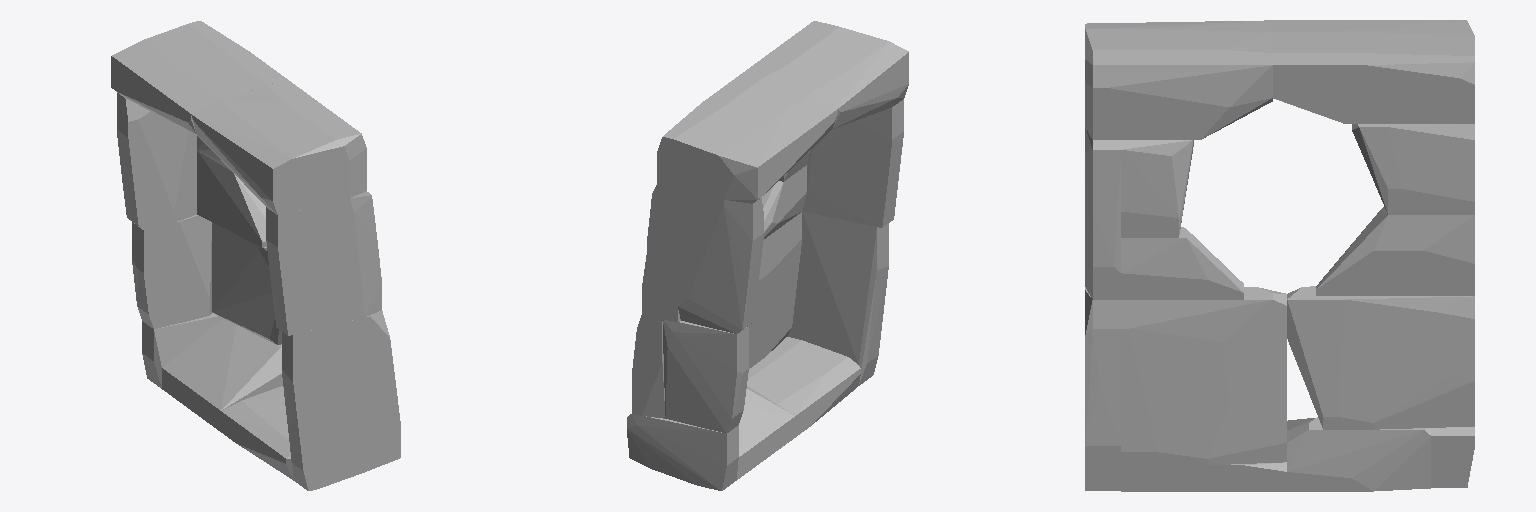
URDF robot description (root):
<robot name="root">
  <link name="link_thingiverse~box_with_two_big_holes_2543843_convex_piece_0">
    <inertial>
      <origin rpy="0 0 0" xyz="0 0 0"/>
      <mass value="1.45E-02"/>
      <inertia ixx="2.60E-05" ixy="-1.68E-07" ixz="-2.42E-07" iyy="1.01E-05" iyz="1.10E-05" izz="1.76E-05"/>
    </inertial>
    <visual>
      <origin rpy="0 0 0" xyz="0 0 0"/>
      <geometry>
        <mesh filename="thingiverse~box_with_two_big_holes_2543843_convex_piece_0.obj" scale="1.0000E+00 1.0000E+00 1.0000E+00"/>
      </geometry>
      <material name="">
        <color rgba="7.50E-01 7.50E-01 7.50E-01 1"/>
      </material>
    </visual>
    <collision>
      <origin rpy="0 0 0" xyz="0 0 0"/>
      <geometry>
        <mesh filename="thingiverse~box_with_two_big_holes_2543843_convex_piece_0.obj" scale="1.0000E+00 1.0000E+00 1.0000E+00"/>
      </geometry>
    </collision>
  </link>
  <link name="link_thingiverse~box_with_two_big_holes_2543843_convex_piece_1">
    <inertial>
      <origin rpy="0 0 0" xyz="0 0 0"/>
      <mass value="2.38E-02"/>
      <inertia ixx="4.71E-05" ixy="3.11E-06" ixz="-5.65E-06" iyy="3.68E-05" iyz="-1.85E-05" izz="1.48E-05"/>
    </inertial>
    <visual>
      <origin rpy="0 0 0" xyz="0 0 0"/>
      <geometry>
        <mesh filename="thingiverse~box_with_two_big_holes_2543843_convex_piece_1.obj" scale="1.0000E+00 1.0000E+00 1.0000E+00"/>
      </geometry>
      <material name="">
        <color rgba="7.50E-01 7.50E-01 7.50E-01 1"/>
      </material>
    </visual>
    <collision>
      <origin rpy="0 0 0" xyz="0 0 0"/>
      <geometry>
        <mesh filename="thingiverse~box_with_two_big_holes_2543843_convex_piece_1.obj" scale="1.0000E+00 1.0000E+00 1.0000E+00"/>
      </geometry>
    </collision>
  </link>
  <joint name="link_thingiverse~box_with_two_big_holes_2543843_convex_piece_1_joint" type="fixed">
    <origin rpy="0 0 0" xyz="0 0 0"/>
    <parent link="link_thingiverse~box_with_two_big_holes_2543843_convex_piece_0"/>
    <child link="link_thingiverse~box_with_two_big_holes_2543843_convex_piece_1"/>
  </joint>
  <link name="link_thingiverse~box_with_two_big_holes_2543843_convex_piece_2">
    <inertial>
      <origin rpy="0 0 0" xyz="0 0 0"/>
      <mass value="2.10E-02"/>
      <inertia ixx="4.22E-05" ixy="-2.86E-06" ixz="-5.73E-06" iyy="3.42E-05" iyz="1.55E-05" izz="1.23E-05"/>
    </inertial>
    <visual>
      <origin rpy="0 0 0" xyz="0 0 0"/>
      <geometry>
        <mesh filename="thingiverse~box_with_two_big_holes_2543843_convex_piece_2.obj" scale="1.0000E+00 1.0000E+00 1.0000E+00"/>
      </geometry>
      <material name="">
        <color rgba="7.50E-01 7.50E-01 7.50E-01 1"/>
      </material>
    </visual>
    <collision>
      <origin rpy="0 0 0" xyz="0 0 0"/>
      <geometry>
        <mesh filename="thingiverse~box_with_two_big_holes_2543843_convex_piece_2.obj" scale="1.0000E+00 1.0000E+00 1.0000E+00"/>
      </geometry>
    </collision>
  </link>
  <joint name="link_thingiverse~box_with_two_big_holes_2543843_convex_piece_2_joint" type="fixed">
    <origin rpy="0 0 0" xyz="0 0 0"/>
    <parent link="link_thingiverse~box_with_two_big_holes_2543843_convex_piece_1"/>
    <child link="link_thingiverse~box_with_two_big_holes_2543843_convex_piece_2"/>
  </joint>
  <link name="link_thingiverse~box_with_two_big_holes_2543843_convex_piece_3">
    <inertial>
      <origin rpy="0 0 0" xyz="0 0 0"/>
      <mass value="1.11E-02"/>
      <inertia ixx="2.02E-05" ixy="-2.60E-07" ixz="-6.29E-07" iyy="1.76E-05" iyz="6.26E-06" izz="3.86E-06"/>
    </inertial>
    <visual>
      <origin rpy="0 0 0" xyz="0 0 0"/>
      <geometry>
        <mesh filename="thingiverse~box_with_two_big_holes_2543843_convex_piece_3.obj" scale="1.0000E+00 1.0000E+00 1.0000E+00"/>
      </geometry>
      <material name="">
        <color rgba="7.50E-01 7.50E-01 7.50E-01 1"/>
      </material>
    </visual>
    <collision>
      <origin rpy="0 0 0" xyz="0 0 0"/>
      <geometry>
        <mesh filename="thingiverse~box_with_two_big_holes_2543843_convex_piece_3.obj" scale="1.0000E+00 1.0000E+00 1.0000E+00"/>
      </geometry>
    </collision>
  </link>
  <joint name="link_thingiverse~box_with_two_big_holes_2543843_convex_piece_3_joint" type="fixed">
    <origin rpy="0 0 0" xyz="0 0 0"/>
    <parent link="link_thingiverse~box_with_two_big_holes_2543843_convex_piece_2"/>
    <child link="link_thingiverse~box_with_two_big_holes_2543843_convex_piece_3"/>
  </joint>
  <link name="link_thingiverse~box_with_two_big_holes_2543843_convex_piece_4">
    <inertial>
      <origin rpy="0 0 0" xyz="0 0 0"/>
      <mass value="1.43E-02"/>
      <inertia ixx="1.06E-05" ixy="-2.05E-06" ixz="-2.70E-06" iyy="7.68E-06" iyz="3.96E-06" izz="5.68E-06"/>
    </inertial>
    <visual>
      <origin rpy="0 0 0" xyz="0 0 0"/>
      <geometry>
        <mesh filename="thingiverse~box_with_two_big_holes_2543843_convex_piece_4.obj" scale="1.0000E+00 1.0000E+00 1.0000E+00"/>
      </geometry>
      <material name="">
        <color rgba="7.50E-01 7.50E-01 7.50E-01 1"/>
      </material>
    </visual>
    <collision>
      <origin rpy="0 0 0" xyz="0 0 0"/>
      <geometry>
        <mesh filename="thingiverse~box_with_two_big_holes_2543843_convex_piece_4.obj" scale="1.0000E+00 1.0000E+00 1.0000E+00"/>
      </geometry>
    </collision>
  </link>
  <joint name="link_thingiverse~box_with_two_big_holes_2543843_convex_piece_4_joint" type="fixed">
    <origin rpy="0 0 0" xyz="0 0 0"/>
    <parent link="link_thingiverse~box_with_two_big_holes_2543843_convex_piece_3"/>
    <child link="link_thingiverse~box_with_two_big_holes_2543843_convex_piece_4"/>
  </joint>
  <link name="link_thingiverse~box_with_two_big_holes_2543843_convex_piece_5">
    <inertial>
      <origin rpy="0 0 0" xyz="0 0 0"/>
      <mass value="1.53E-02"/>
      <inertia ixx="2.56E-05" ixy="6.83E-07" ixz="-1.46E-06" iyy="2.19E-05" iyz="-8.70E-06" izz="5.49E-06"/>
    </inertial>
    <visual>
      <origin rpy="0 0 0" xyz="0 0 0"/>
      <geometry>
        <mesh filename="thingiverse~box_with_two_big_holes_2543843_convex_piece_5.obj" scale="1.0000E+00 1.0000E+00 1.0000E+00"/>
      </geometry>
      <material name="">
        <color rgba="7.50E-01 7.50E-01 7.50E-01 1"/>
      </material>
    </visual>
    <collision>
      <origin rpy="0 0 0" xyz="0 0 0"/>
      <geometry>
        <mesh filename="thingiverse~box_with_two_big_holes_2543843_convex_piece_5.obj" scale="1.0000E+00 1.0000E+00 1.0000E+00"/>
      </geometry>
    </collision>
  </link>
  <joint name="link_thingiverse~box_with_two_big_holes_2543843_convex_piece_5_joint" type="fixed">
    <origin rpy="0 0 0" xyz="0 0 0"/>
    <parent link="link_thingiverse~box_with_two_big_holes_2543843_convex_piece_4"/>
    <child link="link_thingiverse~box_with_two_big_holes_2543843_convex_piece_5"/>
  </joint>
  <link name="link_thingiverse~box_with_two_big_holes_2543843_convex_piece_6">
    <inertial>
      <origin rpy="0 0 0" xyz="0 0 0"/>
      <mass value="5.52E-03"/>
      <inertia ixx="1.30E-05" ixy="8.57E-08" ixz="-7.30E-08" iyy="7.30E-06" iyz="-6.43E-06" izz="6.32E-06"/>
    </inertial>
    <visual>
      <origin rpy="0 0 0" xyz="0 0 0"/>
      <geometry>
        <mesh filename="thingiverse~box_with_two_big_holes_2543843_convex_piece_6.obj" scale="1.0000E+00 1.0000E+00 1.0000E+00"/>
      </geometry>
      <material name="">
        <color rgba="7.50E-01 7.50E-01 7.50E-01 1"/>
      </material>
    </visual>
    <collision>
      <origin rpy="0 0 0" xyz="0 0 0"/>
      <geometry>
        <mesh filename="thingiverse~box_with_two_big_holes_2543843_convex_piece_6.obj" scale="1.0000E+00 1.0000E+00 1.0000E+00"/>
      </geometry>
    </collision>
  </link>
  <joint name="link_thingiverse~box_with_two_big_holes_2543843_convex_piece_6_joint" type="fixed">
    <origin rpy="0 0 0" xyz="0 0 0"/>
    <parent link="link_thingiverse~box_with_two_big_holes_2543843_convex_piece_5"/>
    <child link="link_thingiverse~box_with_two_big_holes_2543843_convex_piece_6"/>
  </joint>
  <link name="link_thingiverse~box_with_two_big_holes_2543843_convex_piece_7">
    <inertial>
      <origin rpy="0 0 0" xyz="0 0 0"/>
      <mass value="5.90E-03"/>
      <inertia ixx="8.28E-06" ixy="-1.10E-06" ixz="4.67E-07" iyy="1.94E-06" iyz="-2.89E-06" izz="7.04E-06"/>
    </inertial>
    <visual>
      <origin rpy="0 0 0" xyz="0 0 0"/>
      <geometry>
        <mesh filename="thingiverse~box_with_two_big_holes_2543843_convex_piece_7.obj" scale="1.0000E+00 1.0000E+00 1.0000E+00"/>
      </geometry>
      <material name="">
        <color rgba="7.50E-01 7.50E-01 7.50E-01 1"/>
      </material>
    </visual>
    <collision>
      <origin rpy="0 0 0" xyz="0 0 0"/>
      <geometry>
        <mesh filename="thingiverse~box_with_two_big_holes_2543843_convex_piece_7.obj" scale="1.0000E+00 1.0000E+00 1.0000E+00"/>
      </geometry>
    </collision>
  </link>
  <joint name="link_thingiverse~box_with_two_big_holes_2543843_convex_piece_7_joint" type="fixed">
    <origin rpy="0 0 0" xyz="0 0 0"/>
    <parent link="link_thingiverse~box_with_two_big_holes_2543843_convex_piece_6"/>
    <child link="link_thingiverse~box_with_two_big_holes_2543843_convex_piece_7"/>
  </joint>
  <link name="link_thingiverse~box_with_two_big_holes_2543843_convex_piece_8">
    <inertial>
      <origin rpy="0 0 0" xyz="0 0 0"/>
      <mass value="1.35E-02"/>
      <inertia ixx="1.10E-05" ixy="2.26E-06" ixz="-1.70E-06" iyy="4.74E-06" iyz="-4.37E-06" izz="8.15E-06"/>
    </inertial>
    <visual>
      <origin rpy="0 0 0" xyz="0 0 0"/>
      <geometry>
        <mesh filename="thingiverse~box_with_two_big_holes_2543843_convex_piece_8.obj" scale="1.0000E+00 1.0000E+00 1.0000E+00"/>
      </geometry>
      <material name="">
        <color rgba="7.50E-01 7.50E-01 7.50E-01 1"/>
      </material>
    </visual>
    <collision>
      <origin rpy="0 0 0" xyz="0 0 0"/>
      <geometry>
        <mesh filename="thingiverse~box_with_two_big_holes_2543843_convex_piece_8.obj" scale="1.0000E+00 1.0000E+00 1.0000E+00"/>
      </geometry>
    </collision>
  </link>
  <joint name="link_thingiverse~box_with_two_big_holes_2543843_convex_piece_8_joint" type="fixed">
    <origin rpy="0 0 0" xyz="0 0 0"/>
    <parent link="link_thingiverse~box_with_two_big_holes_2543843_convex_piece_7"/>
    <child link="link_thingiverse~box_with_two_big_holes_2543843_convex_piece_8"/>
  </joint>
  <link name="link_thingiverse~box_with_two_big_holes_2543843_convex_piece_9">
    <inertial>
      <origin rpy="0 0 0" xyz="0 0 0"/>
      <mass value="1.08E-02"/>
      <inertia ixx="1.55E-05" ixy="1.36E-06" ixz="-6.40E-07" iyy="3.77E-06" iyz="-5.11E-06" izz="1.33E-05"/>
    </inertial>
    <visual>
      <origin rpy="0 0 0" xyz="0 0 0"/>
      <geometry>
        <mesh filename="thingiverse~box_with_two_big_holes_2543843_convex_piece_9.obj" scale="1.0000E+00 1.0000E+00 1.0000E+00"/>
      </geometry>
      <material name="">
        <color rgba="7.50E-01 7.50E-01 7.50E-01 1"/>
      </material>
    </visual>
    <collision>
      <origin rpy="0 0 0" xyz="0 0 0"/>
      <geometry>
        <mesh filename="thingiverse~box_with_two_big_holes_2543843_convex_piece_9.obj" scale="1.0000E+00 1.0000E+00 1.0000E+00"/>
      </geometry>
    </collision>
  </link>
  <joint name="link_thingiverse~box_with_two_big_holes_2543843_convex_piece_9_joint" type="fixed">
    <origin rpy="0 0 0" xyz="0 0 0"/>
    <parent link="link_thingiverse~box_with_two_big_holes_2543843_convex_piece_8"/>
    <child link="link_thingiverse~box_with_two_big_holes_2543843_convex_piece_9"/>
  </joint>
  <link name="link_thingiverse~box_with_two_big_holes_2543843_convex_piece_10">
    <inertial>
      <origin rpy="0 0 0" xyz="0 0 0"/>
      <mass value="7.70E-03"/>
      <inertia ixx="1.16E-05" ixy="-2.49E-06" ixz="-1.20E-06" iyy="3.60E-06" iyz="4.18E-06" izz="9.83E-06"/>
    </inertial>
    <visual>
      <origin rpy="0 0 0" xyz="0 0 0"/>
      <geometry>
        <mesh filename="thingiverse~box_with_two_big_holes_2543843_convex_piece_10.obj" scale="1.0000E+00 1.0000E+00 1.0000E+00"/>
      </geometry>
      <material name="">
        <color rgba="7.50E-01 7.50E-01 7.50E-01 1"/>
      </material>
    </visual>
    <collision>
      <origin rpy="0 0 0" xyz="0 0 0"/>
      <geometry>
        <mesh filename="thingiverse~box_with_two_big_holes_2543843_convex_piece_10.obj" scale="1.0000E+00 1.0000E+00 1.0000E+00"/>
      </geometry>
    </collision>
  </link>
  <joint name="link_thingiverse~box_with_two_big_holes_2543843_convex_piece_10_joint" type="fixed">
    <origin rpy="0 0 0" xyz="0 0 0"/>
    <parent link="link_thingiverse~box_with_two_big_holes_2543843_convex_piece_9"/>
    <child link="link_thingiverse~box_with_two_big_holes_2543843_convex_piece_10"/>
  </joint>
  <link name="link_thingiverse~box_with_two_big_holes_2543843_convex_piece_11">
    <inertial>
      <origin rpy="0 0 0" xyz="0 0 0"/>
      <mass value="2.88E-03"/>
      <inertia ixx="1.43E-06" ixy="-4.33E-07" ixz="7.17E-08" iyy="2.32E-07" iyz="-2.33E-07" izz="1.52E-06"/>
    </inertial>
    <visual>
      <origin rpy="0 0 0" xyz="0 0 0"/>
      <geometry>
        <mesh filename="thingiverse~box_with_two_big_holes_2543843_convex_piece_11.obj" scale="1.0000E+00 1.0000E+00 1.0000E+00"/>
      </geometry>
      <material name="">
        <color rgba="7.50E-01 7.50E-01 7.50E-01 1"/>
      </material>
    </visual>
    <collision>
      <origin rpy="0 0 0" xyz="0 0 0"/>
      <geometry>
        <mesh filename="thingiverse~box_with_two_big_holes_2543843_convex_piece_11.obj" scale="1.0000E+00 1.0000E+00 1.0000E+00"/>
      </geometry>
    </collision>
  </link>
  <joint name="link_thingiverse~box_with_two_big_holes_2543843_convex_piece_11_joint" type="fixed">
    <origin rpy="0 0 0" xyz="0 0 0"/>
    <parent link="link_thingiverse~box_with_two_big_holes_2543843_convex_piece_10"/>
    <child link="link_thingiverse~box_with_two_big_holes_2543843_convex_piece_11"/>
  </joint>
  <link name="link_thingiverse~box_with_two_big_holes_2543843_convex_piece_12">
    <inertial>
      <origin rpy="0 0 0" xyz="0 0 0"/>
      <mass value="3.29E-03"/>
      <inertia ixx="3.46E-06" ixy="-4.12E-07" ixz="3.40E-07" iyy="1.61E-06" iyz="-1.63E-06" izz="2.06E-06"/>
    </inertial>
    <visual>
      <origin rpy="0 0 0" xyz="0 0 0"/>
      <geometry>
        <mesh filename="thingiverse~box_with_two_big_holes_2543843_convex_piece_12.obj" scale="1.0000E+00 1.0000E+00 1.0000E+00"/>
      </geometry>
      <material name="">
        <color rgba="7.50E-01 7.50E-01 7.50E-01 1"/>
      </material>
    </visual>
    <collision>
      <origin rpy="0 0 0" xyz="0 0 0"/>
      <geometry>
        <mesh filename="thingiverse~box_with_two_big_holes_2543843_convex_piece_12.obj" scale="1.0000E+00 1.0000E+00 1.0000E+00"/>
      </geometry>
    </collision>
  </link>
  <joint name="link_thingiverse~box_with_two_big_holes_2543843_convex_piece_12_joint" type="fixed">
    <origin rpy="0 0 0" xyz="0 0 0"/>
    <parent link="link_thingiverse~box_with_two_big_holes_2543843_convex_piece_11"/>
    <child link="link_thingiverse~box_with_two_big_holes_2543843_convex_piece_12"/>
  </joint>
  <link name="link_thingiverse~box_with_two_big_holes_2543843_convex_piece_13">
    <inertial>
      <origin rpy="0 0 0" xyz="0 0 0"/>
      <mass value="6.45E-03"/>
      <inertia ixx="5.08E-06" ixy="8.02E-07" ixz="1.68E-07" iyy="5.35E-07" iyz="9.85E-07" izz="4.94E-06"/>
    </inertial>
    <visual>
      <origin rpy="0 0 0" xyz="0 0 0"/>
      <geometry>
        <mesh filename="thingiverse~box_with_two_big_holes_2543843_convex_piece_13.obj" scale="1.0000E+00 1.0000E+00 1.0000E+00"/>
      </geometry>
      <material name="">
        <color rgba="7.50E-01 7.50E-01 7.50E-01 1"/>
      </material>
    </visual>
    <collision>
      <origin rpy="0 0 0" xyz="0 0 0"/>
      <geometry>
        <mesh filename="thingiverse~box_with_two_big_holes_2543843_convex_piece_13.obj" scale="1.0000E+00 1.0000E+00 1.0000E+00"/>
      </geometry>
    </collision>
  </link>
  <joint name="link_thingiverse~box_with_two_big_holes_2543843_convex_piece_13_joint" type="fixed">
    <origin rpy="0 0 0" xyz="0 0 0"/>
    <parent link="link_thingiverse~box_with_two_big_holes_2543843_convex_piece_12"/>
    <child link="link_thingiverse~box_with_two_big_holes_2543843_convex_piece_13"/>
  </joint>
  <link name="link_thingiverse~box_with_two_big_holes_2543843_convex_piece_14">
    <inertial>
      <origin rpy="0 0 0" xyz="0 0 0"/>
      <mass value="5.39E-03"/>
      <inertia ixx="7.50E-06" ixy="5.26E-07" ixz="4.53E-07" iyy="3.34E-06" iyz="3.52E-06" izz="4.35E-06"/>
    </inertial>
    <visual>
      <origin rpy="0 0 0" xyz="0 0 0"/>
      <geometry>
        <mesh filename="thingiverse~box_with_two_big_holes_2543843_convex_piece_14.obj" scale="1.0000E+00 1.0000E+00 1.0000E+00"/>
      </geometry>
      <material name="">
        <color rgba="7.50E-01 7.50E-01 7.50E-01 1"/>
      </material>
    </visual>
    <collision>
      <origin rpy="0 0 0" xyz="0 0 0"/>
      <geometry>
        <mesh filename="thingiverse~box_with_two_big_holes_2543843_convex_piece_14.obj" scale="1.0000E+00 1.0000E+00 1.0000E+00"/>
      </geometry>
    </collision>
  </link>
  <joint name="link_thingiverse~box_with_two_big_holes_2543843_convex_piece_14_joint" type="fixed">
    <origin rpy="0 0 0" xyz="0 0 0"/>
    <parent link="link_thingiverse~box_with_two_big_holes_2543843_convex_piece_13"/>
    <child link="link_thingiverse~box_with_two_big_holes_2543843_convex_piece_14"/>
  </joint>
</robot>

--- What the picture shows (computed from the rendered views, not written in the file) ---
Views: 3 orthographic renders of the robot side by side, from view 1: azimuth 30°, elevation 25°; view 2: azimuth 150°, elevation 25°; view 3: azimuth 270°, elevation 25°.
Model root with 15 links and 14 joints (14 fixed), rooted at link_thingiverse~box_with_two_big_holes_2543843_convex_piece_0, posed every joint at zero.
Links seen in each view (by area): view 1: link_thingiverse~box_with_two_big_holes_2543843_convex_piece_0, link_thingiverse~box_with_two_big_holes_2543843_convex_piece_1, link_thingiverse~box_with_two_big_holes_2543843_convex_piece_9, link_thingiverse~box_with_two_big_holes_2543843_convex_piece_2, link_thingiverse~box_with_two_big_holes_2543843_convex_piece_10, link_thingiverse~box_with_two_big_holes_2543843_convex_piece_5, link_thingiverse~box_with_two_big_holes_2543843_convex_piece_7, link_thingiverse~box_with_two_big_holes_2543843_convex_piece_8, link_thingiverse~box_with_two_big_holes_2543843_convex_piece_13, link_thingiverse~box_with_two_big_holes_2543843_convex_piece_3, link_thingiverse~box_with_two_big_holes_2543843_convex_piece_6; view 2: link_thingiverse~box_with_two_big_holes_2543843_convex_piece_2, link_thingiverse~box_with_two_big_holes_2543843_convex_piece_0, link_thingiverse~box_with_two_big_holes_2543843_convex_piece_10, link_thingiverse~box_with_two_big_holes_2543843_convex_piece_1, link_thingiverse~box_with_two_big_holes_2543843_convex_piece_9, link_thingiverse~box_with_two_big_holes_2543843_convex_piece_7, link_thingiverse~box_with_two_big_holes_2543843_convex_piece_3, link_thingiverse~box_with_two_big_holes_2543843_convex_piece_6, link_thingiverse~box_with_two_big_holes_2543843_convex_piece_4, link_thingiverse~box_with_two_big_holes_2543843_convex_piece_5, link_thingiverse~box_with_two_big_holes_2543843_convex_piece_8, link_thingiverse~box_with_two_big_holes_2543843_convex_piece_13 (+2 smaller); view 3: link_thingiverse~box_with_two_big_holes_2543843_convex_piece_4, link_thingiverse~box_with_two_big_holes_2543843_convex_piece_8, link_thingiverse~box_with_two_big_holes_2543843_convex_piece_1, link_thingiverse~box_with_two_big_holes_2543843_convex_piece_2, link_thingiverse~box_with_two_big_holes_2543843_convex_piece_13, link_thingiverse~box_with_two_big_holes_2543843_convex_piece_14, link_thingiverse~box_with_two_big_holes_2543843_convex_piece_5, link_thingiverse~box_with_two_big_holes_2543843_convex_piece_0, link_thingiverse~box_with_two_big_holes_2543843_convex_piece_11, link_thingiverse~box_with_two_big_holes_2543843_convex_piece_12, link_thingiverse~box_with_two_big_holes_2543843_convex_piece_9, link_thingiverse~box_with_two_big_holes_2543843_convex_piece_3 (+1 smaller).
Link boxes in pixels (box(x1,y1,x2,y2)): link_thingiverse~box_with_two_big_holes_2543843_convex_piece_0: box(282, 311, 400, 490); link_thingiverse~box_with_two_big_holes_2543843_convex_piece_1: box(191, 80, 366, 215); link_thingiverse~box_with_two_big_holes_2543843_convex_piece_9: box(266, 191, 381, 335); link_thingiverse~box_with_two_big_holes_2543843_convex_piece_2: box(111, 21, 287, 133); link_thingiverse~box_with_two_big_holes_2543843_convex_piece_10: box(117, 93, 196, 229); link_thingiverse~box_with_two_big_holes_2543843_convex_piece_5: box(162, 318, 282, 431); link_thingiverse~box_with_two_big_holes_2543843_convex_piece_7: box(132, 215, 211, 328); link_thingiverse~box_with_two_big_holes_2543843_convex_piece_8: box(212, 222, 281, 344); link_thingiverse~box_with_two_big_holes_2543843_convex_piece_13: box(197, 151, 266, 247); link_thingiverse~box_with_two_big_holes_2543843_convex_piece_3: box(221, 386, 293, 480); link_thingiverse~box_with_two_big_holes_2543843_convex_piece_6: box(142, 313, 222, 388); link_thingiverse~box_with_two_big_holes_2543843_convex_piece_2: box(657, 75, 837, 203); link_thingiverse~box_with_two_big_holes_2543843_convex_piece_0: box(787, 212, 888, 385); link_thingiverse~box_with_two_big_holes_2543843_convex_piece_10: box(678, 189, 763, 333); link_thingiverse~box_with_two_big_holes_2543843_convex_piece_1: box(740, 21, 908, 128); link_thingiverse~box_with_two_big_holes_2543843_convex_piece_9: box(802, 99, 903, 227); link_thingiverse~box_with_two_big_holes_2543843_convex_piece_7: box(662, 319, 748, 433); link_thingiverse~box_with_two_big_holes_2543843_convex_piece_3: box(747, 337, 860, 436); link_thingiverse~box_with_two_big_holes_2543843_convex_piece_6: box(627, 414, 738, 490); link_thingiverse~box_with_two_big_holes_2543843_convex_piece_4: box(749, 212, 801, 368); link_thingiverse~box_with_two_big_holes_2543843_convex_piece_5: box(737, 386, 795, 479); link_thingiverse~box_with_two_big_holes_2543843_convex_piece_8: box(632, 314, 664, 418); link_thingiverse~box_with_two_big_holes_2543843_convex_piece_13: box(642, 251, 680, 322); link_thingiverse~box_with_two_big_holes_2543843_convex_piece_4: box(1121, 287, 1286, 464); link_thingiverse~box_with_two_big_holes_2543843_convex_piece_8: box(1287, 286, 1474, 429); link_thingiverse~box_with_two_big_holes_2543843_convex_piece_1: box(1085, 20, 1272, 139); link_thingiverse~box_with_two_big_holes_2543843_convex_piece_2: box(1273, 20, 1474, 123); link_thingiverse~box_with_two_big_holes_2543843_convex_piece_13: box(1316, 207, 1474, 295); link_thingiverse~box_with_two_big_holes_2543843_convex_piece_14: box(1352, 124, 1474, 214); link_thingiverse~box_with_two_big_holes_2543843_convex_piece_5: box(1287, 417, 1430, 491); link_thingiverse~box_with_two_big_holes_2543843_convex_piece_0: box(1085, 287, 1120, 490); link_thingiverse~box_with_two_big_holes_2543843_convex_piece_11: box(1121, 227, 1243, 299); link_thingiverse~box_with_two_big_holes_2543843_convex_piece_12: box(1121, 140, 1193, 237); link_thingiverse~box_with_two_big_holes_2543843_convex_piece_9: box(1085, 128, 1120, 299); link_thingiverse~box_with_two_big_holes_2543843_convex_piece_3: box(1121, 462, 1286, 491).
Bounding box of the posed robot: 0.036 × 0.0747 × 0.0886 m (x, y, z).
Meshes: 15 distinct files referenced, 15 mesh visuals loaded (15 OBJ).
